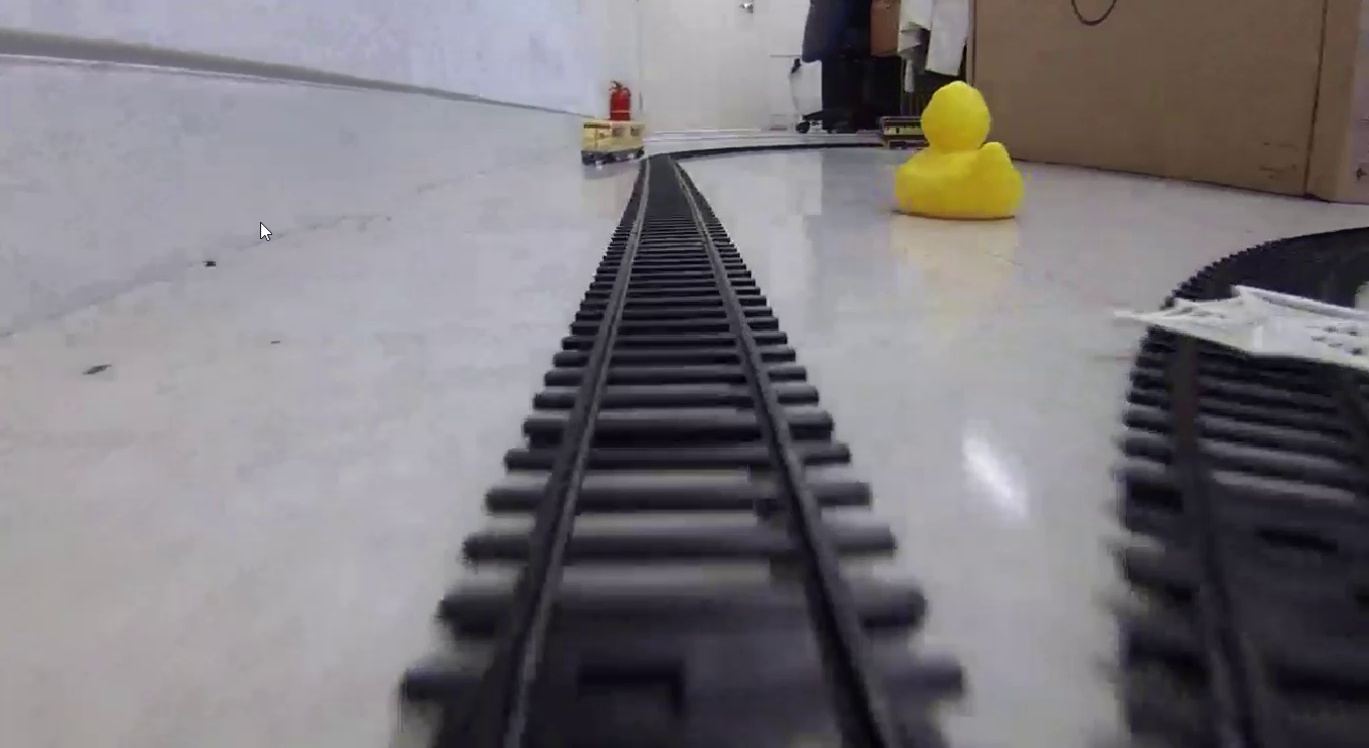web: (1116, 284, 1369, 376)
